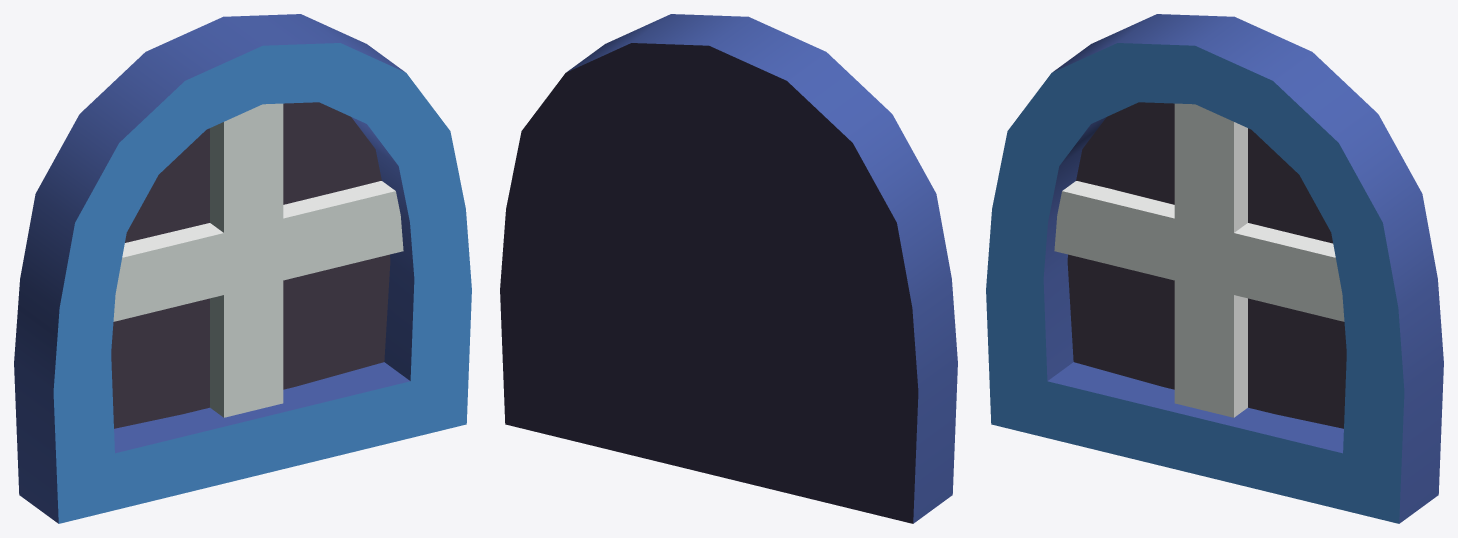
The model's file is SmallWindow01_Blue_White.glb.
3 renders of one model, left to right at view 1: azimuth 30°, elevation 25°; view 2: azimuth 150°, elevation 25°; view 3: azimuth 330°, elevation 25°, orthographic.
Visible parts, largest first — view 1: SmallWindow01_Blue_White; view 2: SmallWindow01_Blue_White; view 3: SmallWindow01_Blue_White.
Boxes of the visible parts, <box> form: SmallWindow01_Blue_White: <box>14,14,471,523</box>; SmallWindow01_Blue_White: <box>500,14,957,523</box>; SmallWindow01_Blue_White: <box>986,14,1443,523</box>.
Size of the model in its own units: 0.5801 by 0.5676 by 0.0949.
Materials: 1 (1 with a texture image).
